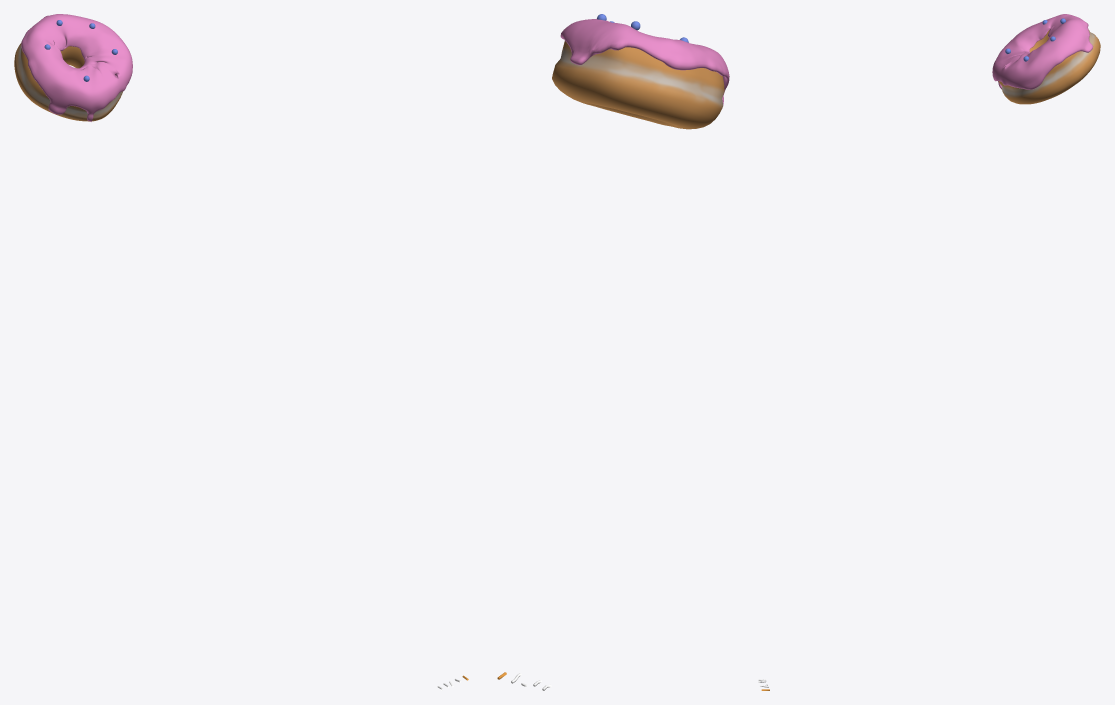
The model's file is Donut.glb.
3 renders of one model, left to right at view 1: azimuth 30°, elevation 25°; view 2: azimuth 150°, elevation 25°; view 3: azimuth 270°, elevation 25°, orthographic. The views are drawn at different scales.
Visible parts, largest first — view 1: Icing, Donut; view 2: Donut, Icing; view 3: Icing, Donut.
Boxes of the visible parts, x1,y1,x2,y2 form: Icing: (21,14,132,121); Donut: (14,43,122,121); Donut: (552,41,724,129); Icing: (560,18,729,105); Icing: (992,14,1092,89); Donut: (998,29,1100,104).
Bounding box in the file's own units: 0.2632 × 0.5231 × 0.2877.
5 materials, 1 textured.
